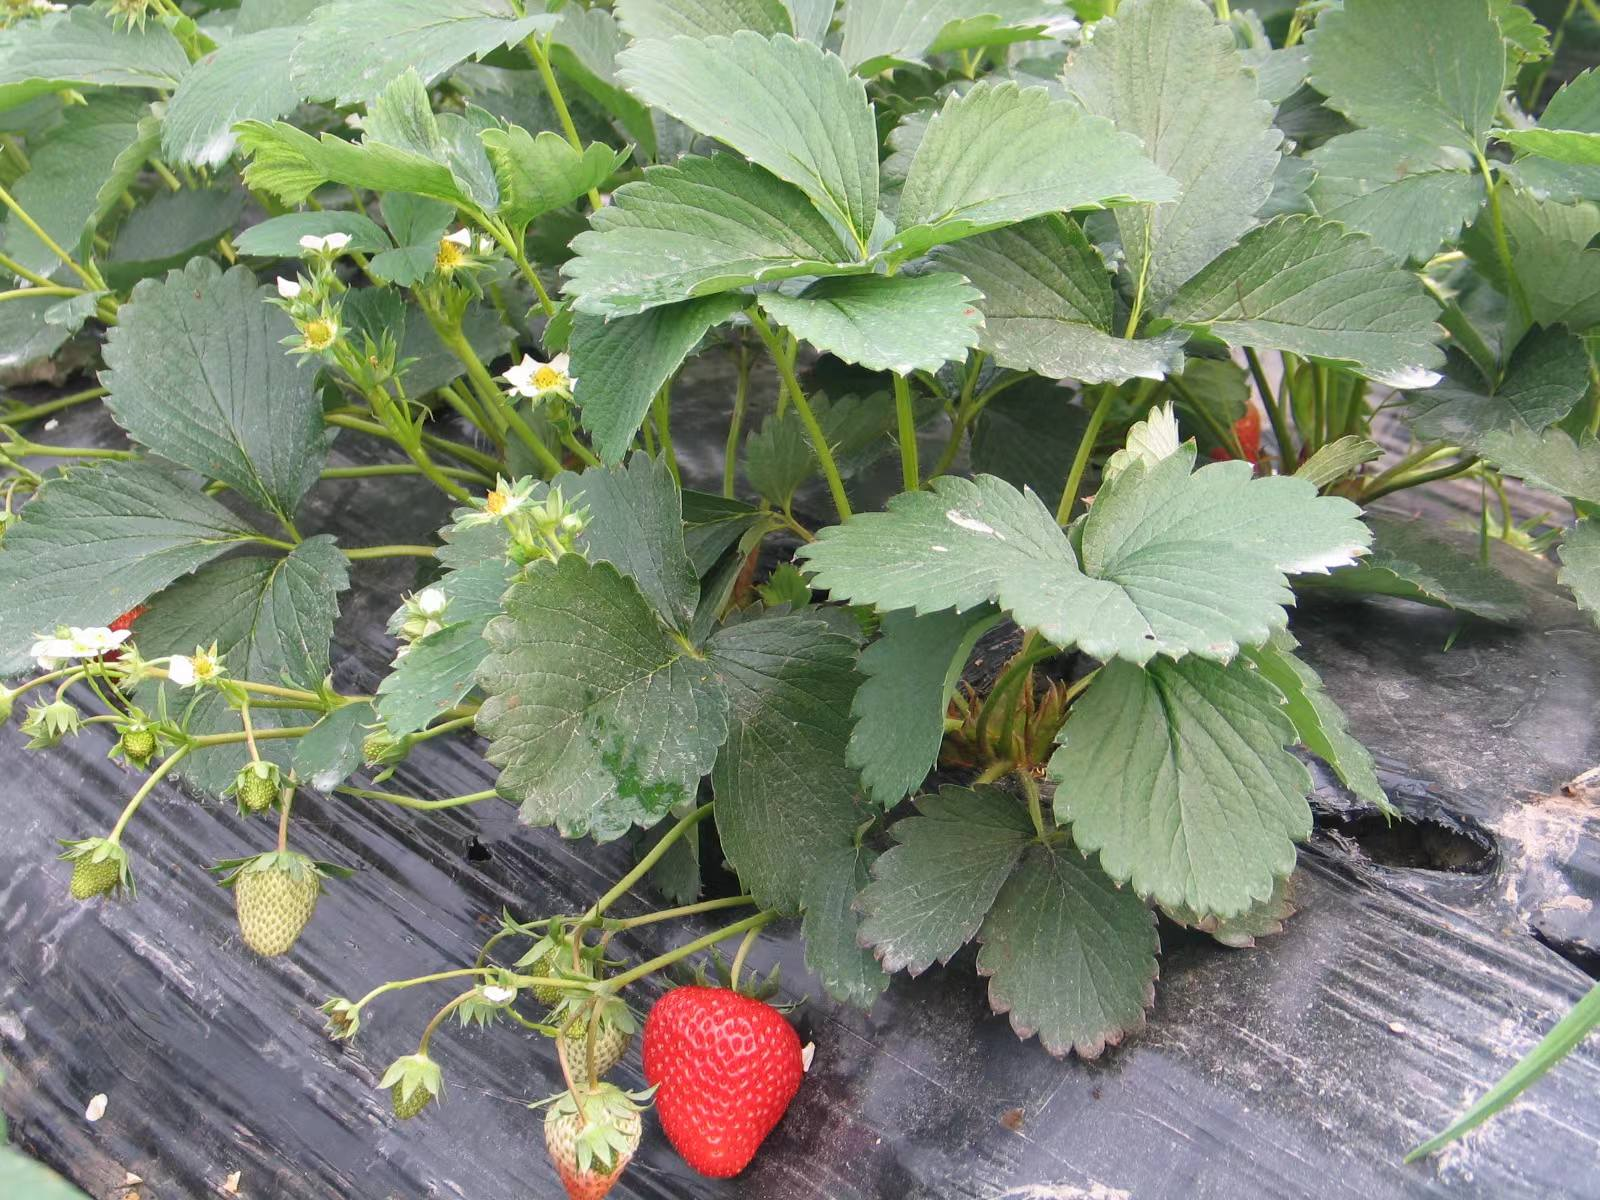StrawberryCone: (639, 983, 808, 1179)
StrawberryIrremovable: (528, 1088, 648, 1190), (229, 843, 328, 961), (548, 989, 636, 1092), (383, 1053, 447, 1123), (63, 839, 131, 903), (222, 760, 289, 816), (113, 718, 163, 761)
StrawberryOther: (1186, 371, 1277, 476)
StrawberryRemovable: (643, 989, 808, 1179), (1192, 372, 1276, 471)
